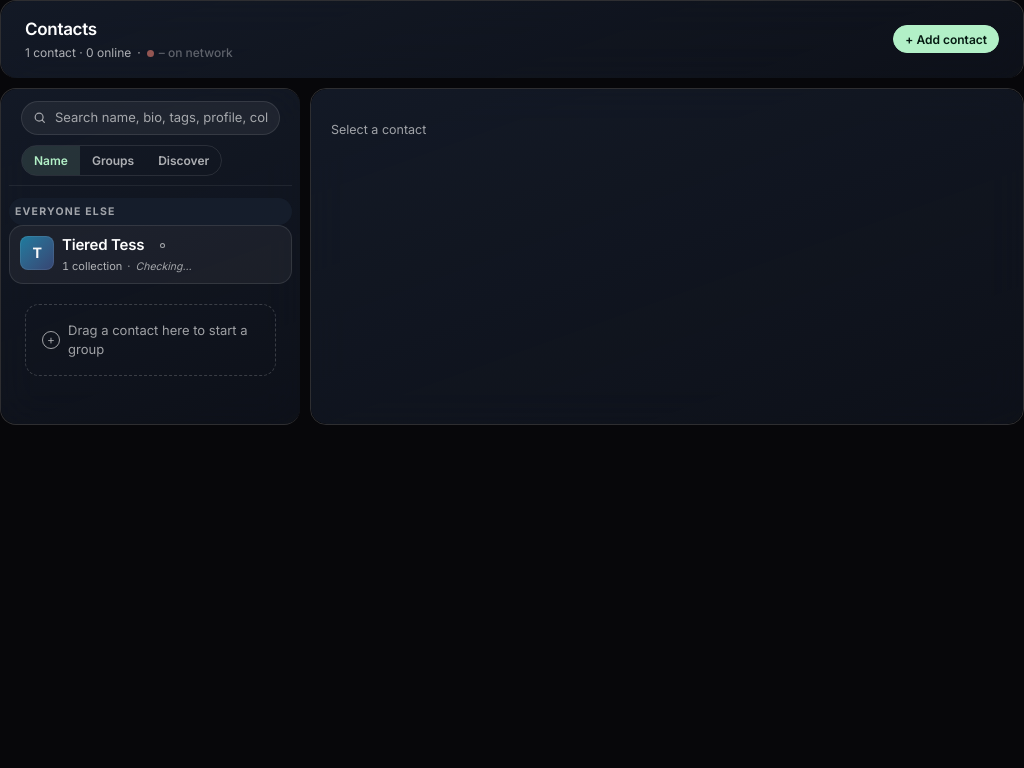
Test: QURATOR-378 rev b — the contact pane in four tiers › Tags: their types and tags are grey, your tag glows, in ONE row; Identity is the last fact
Click the option with class "contact-card". click: (37, 253)
box: [9,226,292,284]
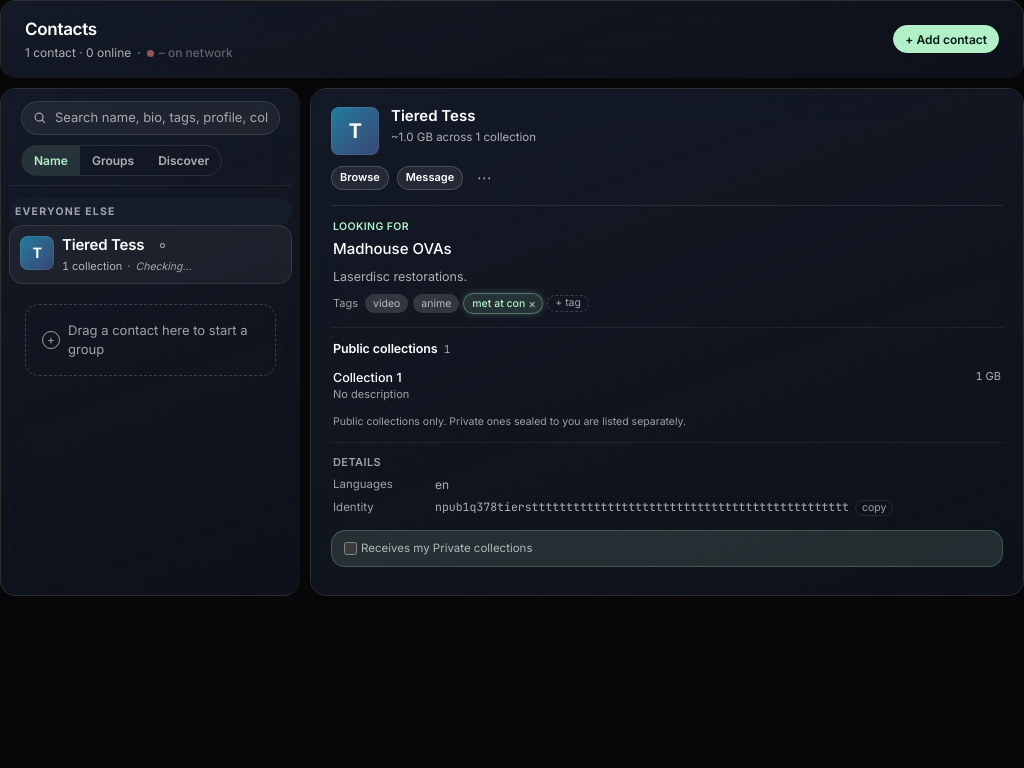
Expected: the element with class "about" is shown, [333,220,589,313]
Expected: the element with class "local-tag" shows "met at con", [472,297,525,310]
Expected: the button with class "tag-add-btn" is shown, [547,295,589,312]
